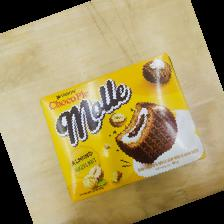Molle: (38, 52, 206, 204)
